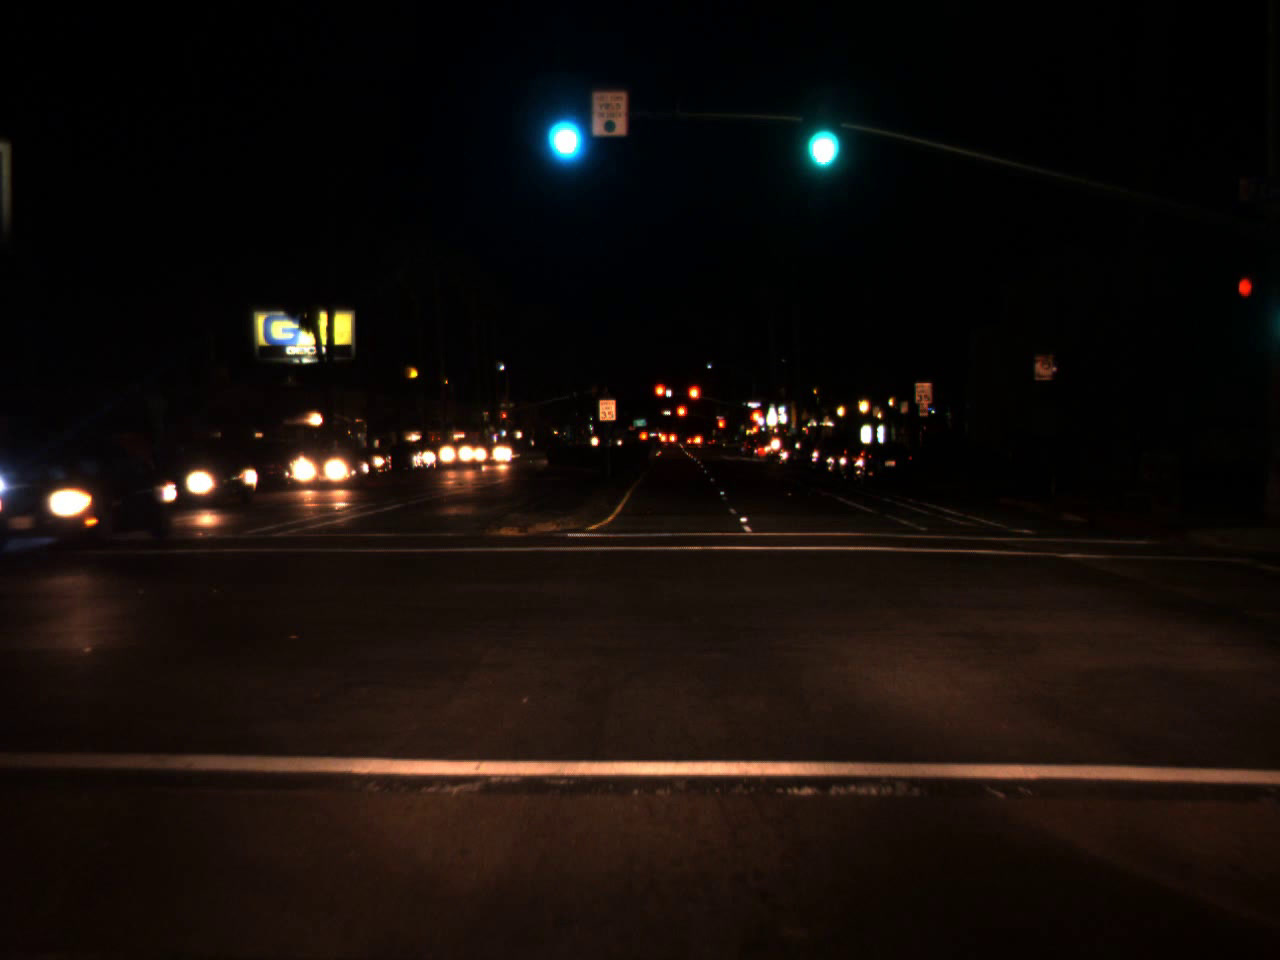go: (798, 90, 843, 177), (544, 95, 581, 164)
stop: (747, 407, 765, 439), (686, 383, 702, 415), (653, 381, 668, 413), (674, 403, 689, 430), (717, 418, 724, 439), (501, 413, 507, 423)
